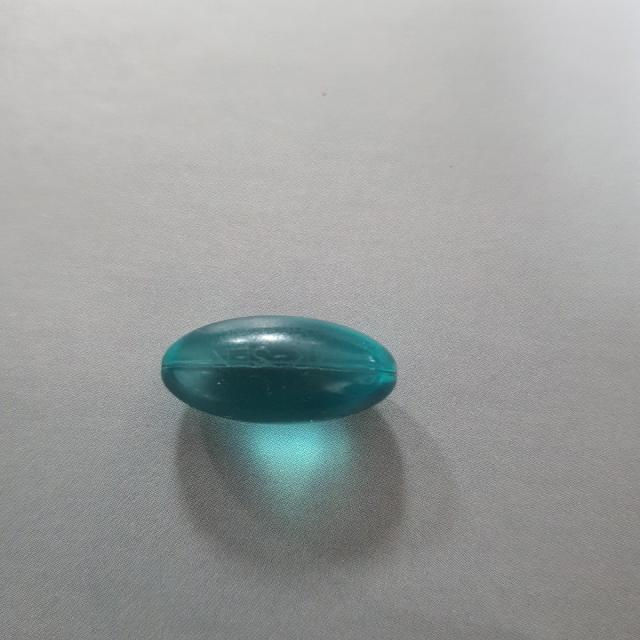pill: (134, 288, 401, 432)
